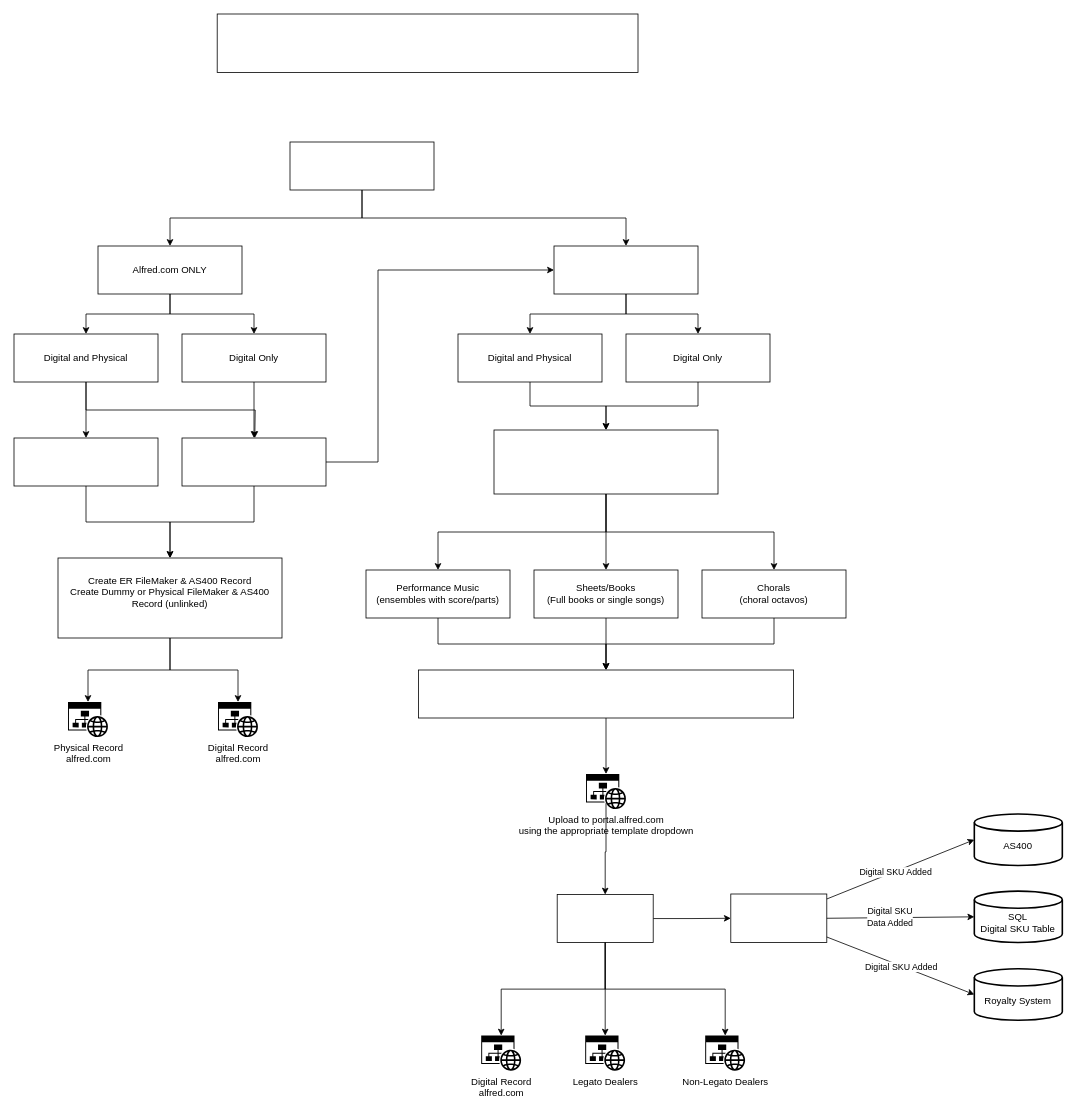
Some shapes in this 1077 by 1114 pixel diagram are drawn without their labels. The centre of each missing label's shape, as x and y in pixels:
"Alfred Music Products" goes at point 361,165.
"Create Dummy or Physical FileMaker & AS400 Record (unlinked)" goes at point 605,461.
"DATA/ASSET PROCESSING" goes at point 606,693.
"Dealers & Alfred.com" goes at point 625,269.
"Digital SKU Logic" goes at point 778,918.
"Interactive" goes at point 85,461.
"Non Interactive" goes at point 253,461.
"Portal.alfred.com Automated Processing (SQL)" goes at point 604,918.
"Selling Digital Sheet Music - Distilled Version" goes at point 427,42.
